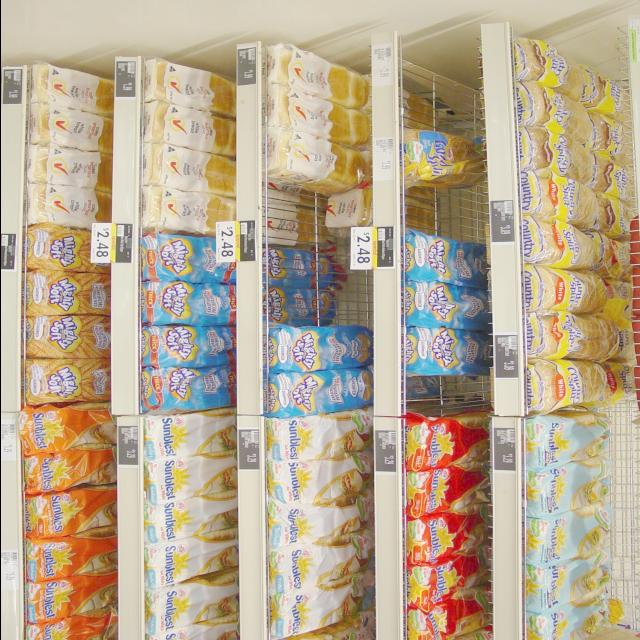empty_space: (269, 199, 326, 322), (611, 419, 637, 593), (400, 186, 468, 230), (410, 375, 480, 413), (401, 92, 463, 132)
